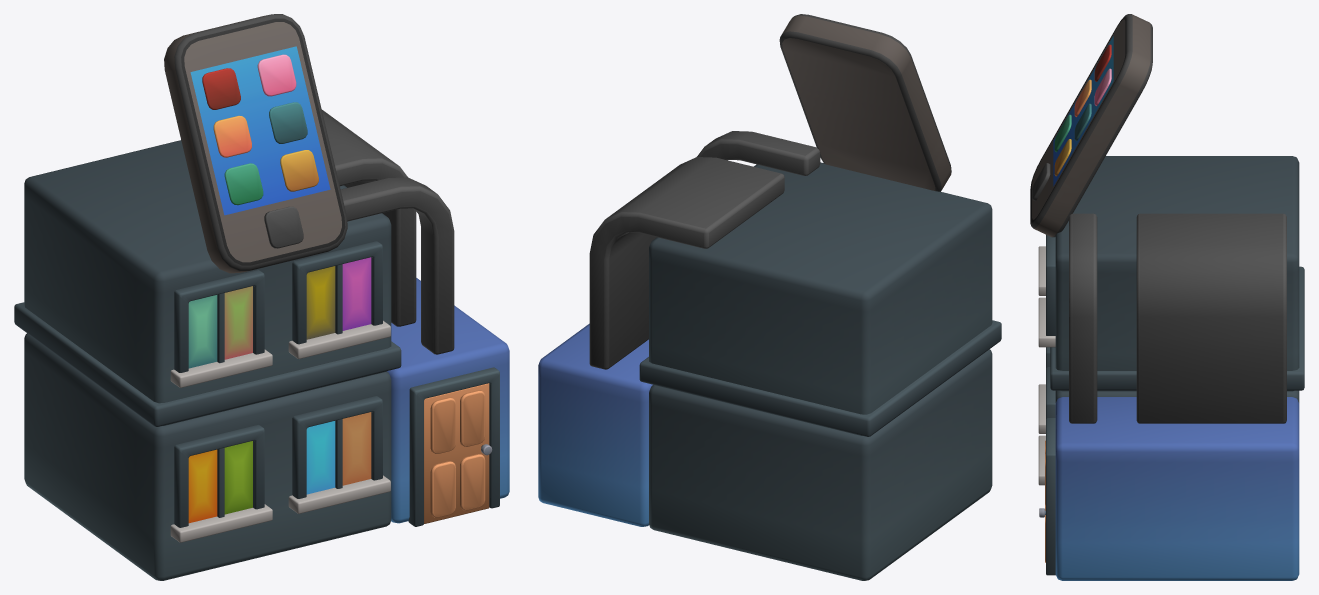
The model's file is mct_build_full_gadget.fbx.
3 views of the same model, side by side, from view 1: azimuth 30°, elevation 25°; view 2: azimuth 150°, elevation 25°; view 3: azimuth 270°, elevation 25° (orthographic). The views are drawn at different scales.
Parts seen in each view (by area): view 1: mct_build_full_gadget, mct_build_full_gadget_door; view 2: mct_build_full_gadget; view 3: mct_build_full_gadget.
Boxes of the visible parts, bbox=[...] form: mct_build_full_gadget: bbox=[14, 14, 509, 580]; mct_build_full_gadget_door: bbox=[424, 383, 492, 523]; mct_build_full_gadget: bbox=[538, 14, 1001, 580]; mct_build_full_gadget: bbox=[1030, 14, 1304, 580].
Bounding box in the file's own units: 609 × 810 × 450.
